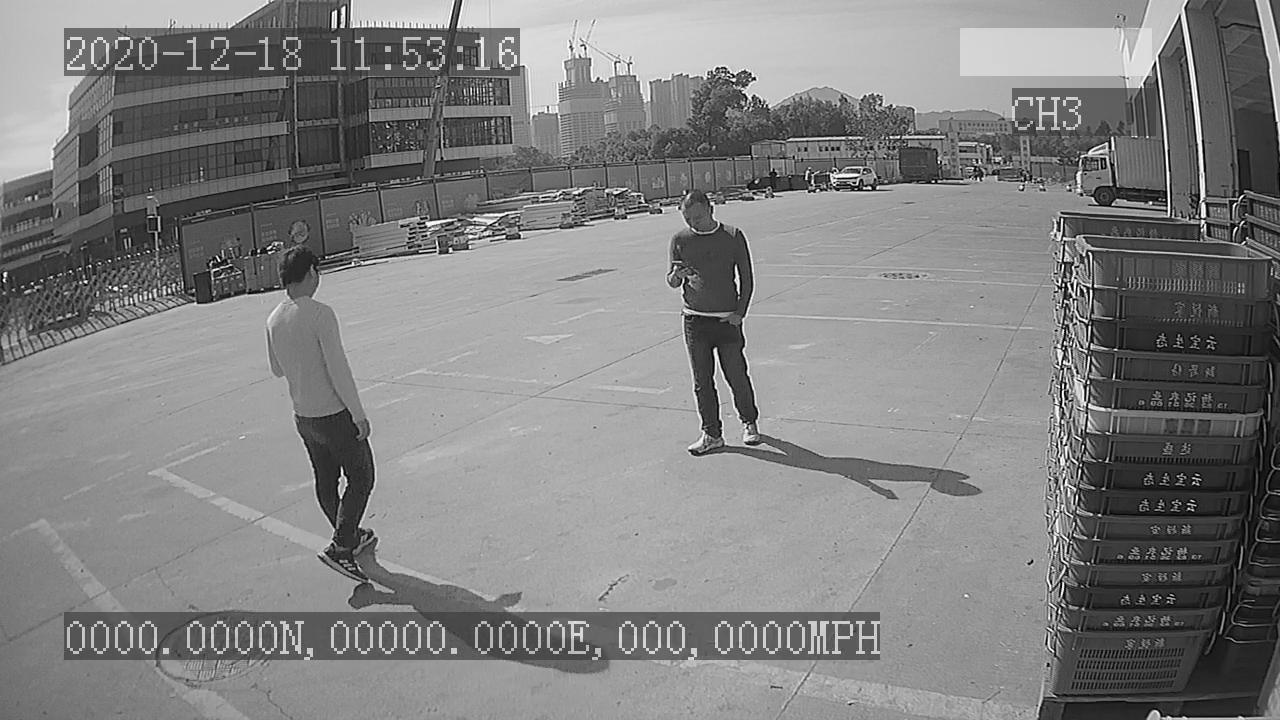person: (258, 242, 397, 599), (659, 185, 772, 461)
